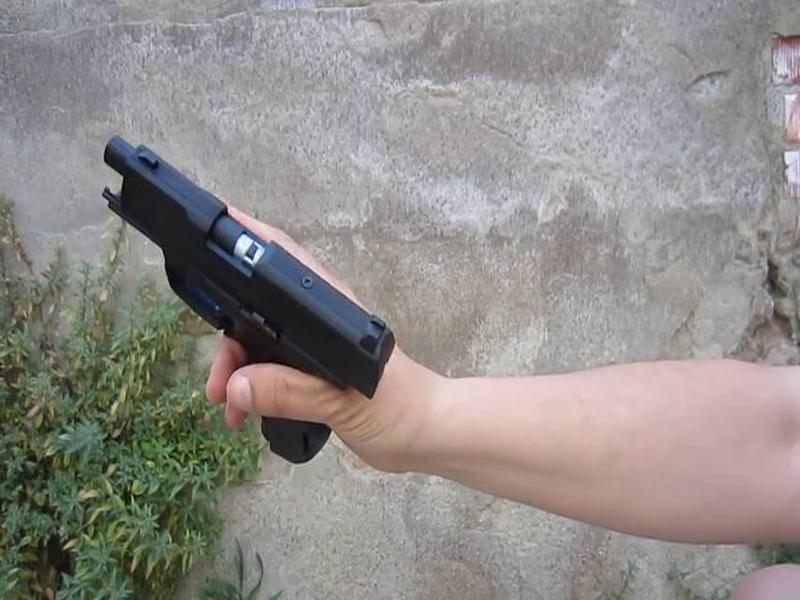Pistola: (88, 119, 397, 495)
